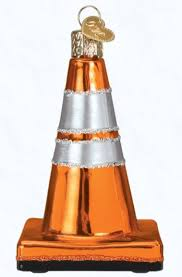cones: (17, 56, 165, 271)
